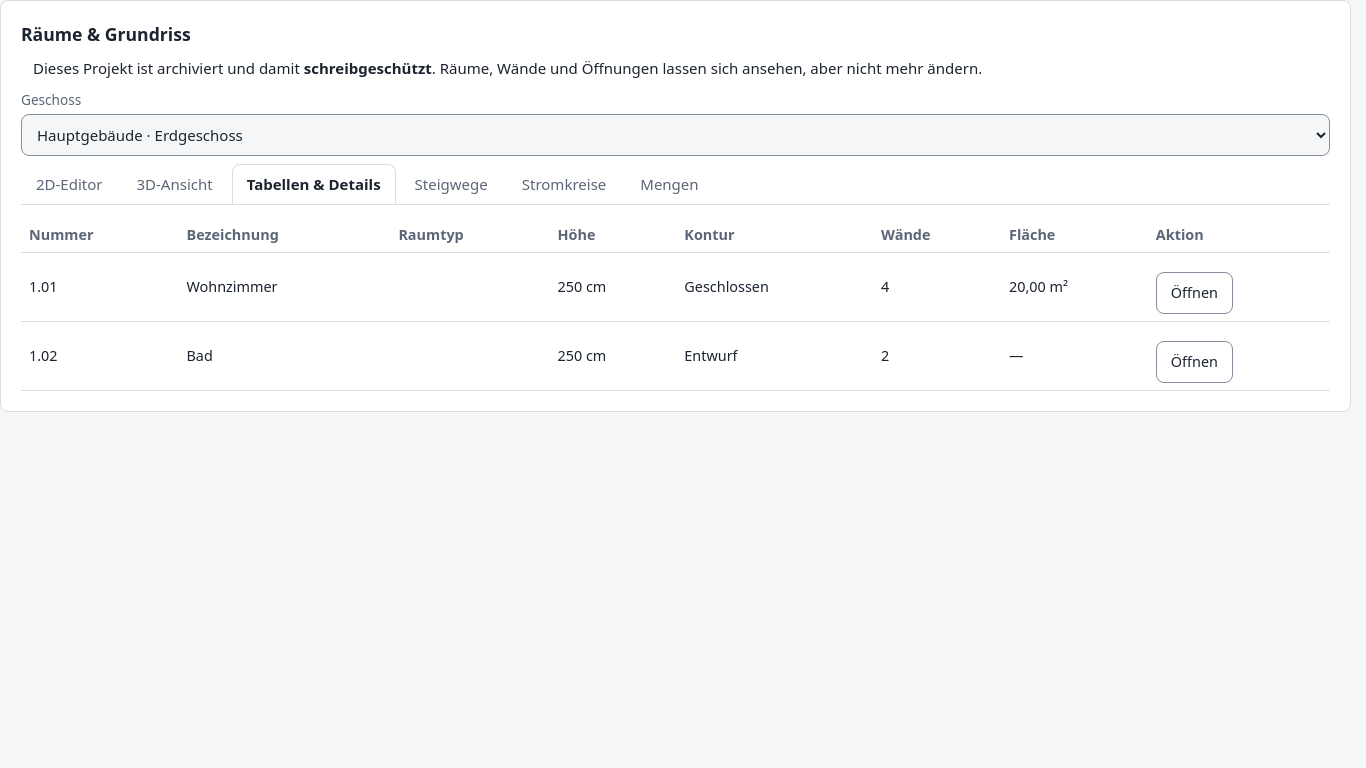
Test case: Schreibschutz › zeigt trotz Schreibschutz die vorhandenen Daten
The image size is (1366, 768).
Expected: the text "Wohnzimmer" is shown, [178,253,390,322]
Click the button with aria-label "Raum Wohnzimmer öffnen" at x=1194, y=293, box [1156,272,1233,314]
(page scrolled)
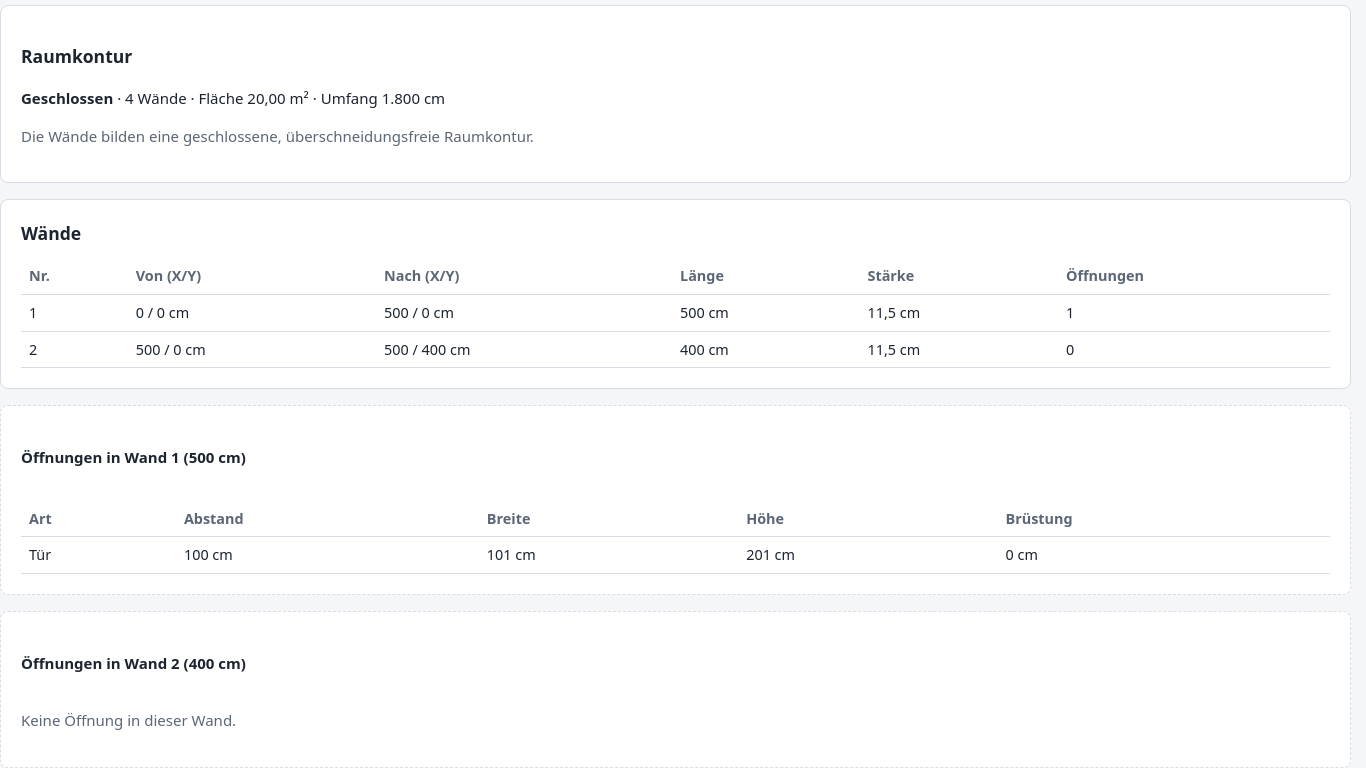
Result: the text "Tür" is shown at [21,537,176,573]
